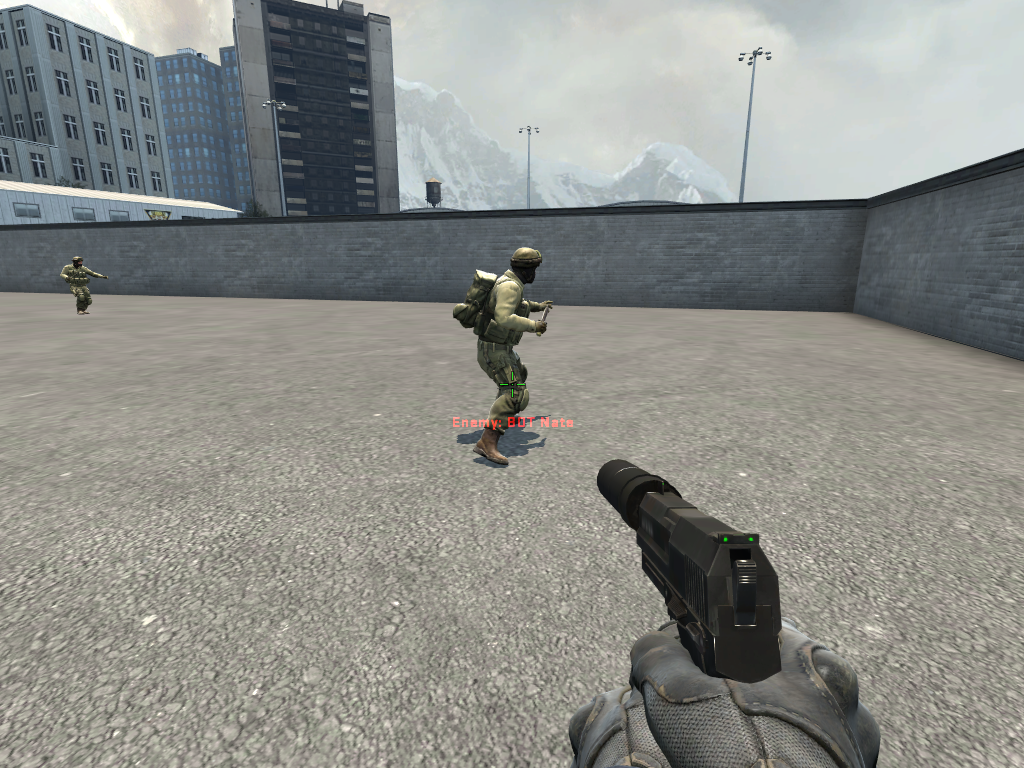ct head: (510, 241, 545, 287), (70, 255, 86, 273)
